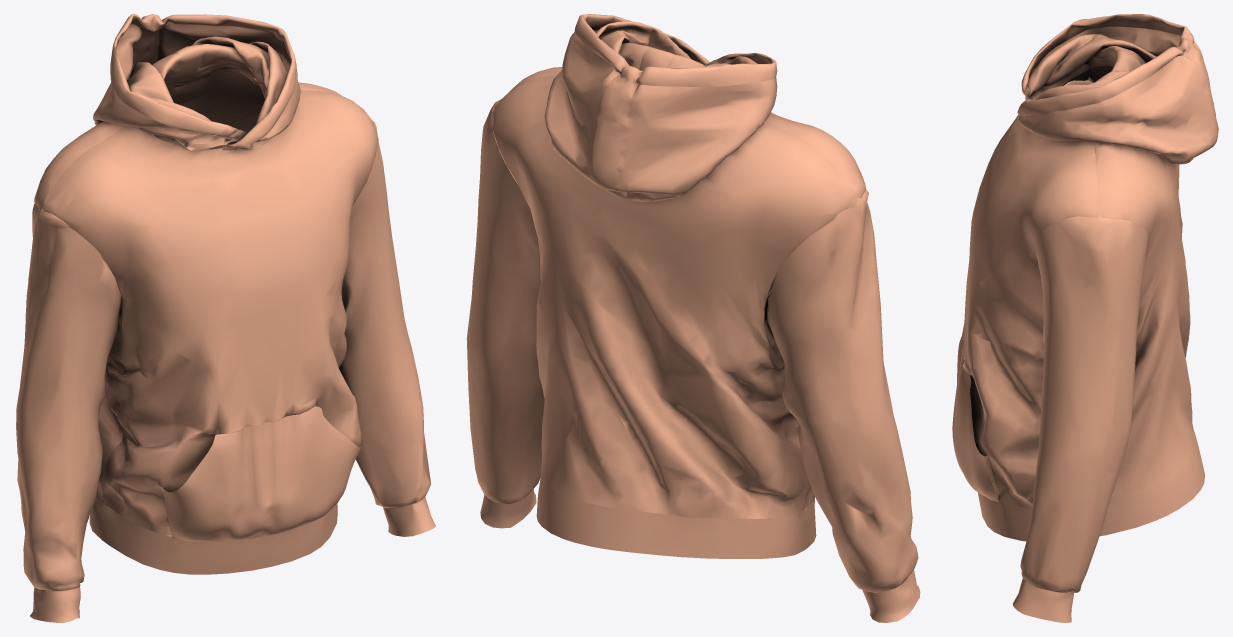
The model's file is clothes_configurator.gltf.
3 renders of one model, left to right at view 1: azimuth 30°, elevation 25°; view 2: azimuth 150°, elevation 25°; view 3: azimuth 270°, elevation 25°, orthographic. The views are drawn at different scales.
Visible parts, largest first — view 1: hoodies_01; view 2: hoodies_01; view 3: hoodies_01.
Part boxes in pixels (left/top/right/bottom): hoodies_01: left=16, top=14, right=435, bottom=622; hoodies_01: left=466, top=14, right=920, bottom=622; hoodies_01: left=952, top=14, right=1218, bottom=622.
Bounding box in the file's own units: 1.27 × 1.58 × 0.7718.
2 materials, 2 textured.
